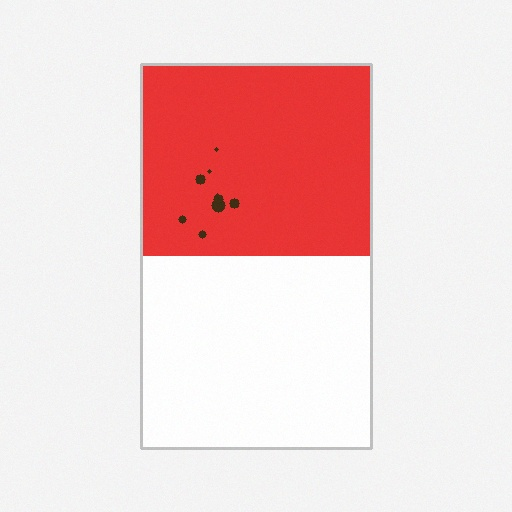contamination: (174, 143, 243, 242)
